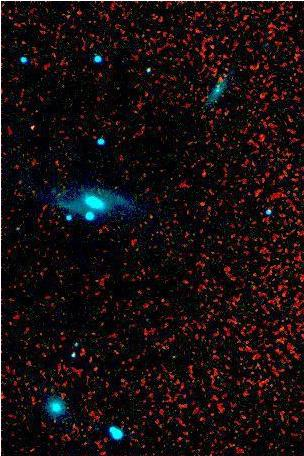star: (46, 181, 76, 211)
